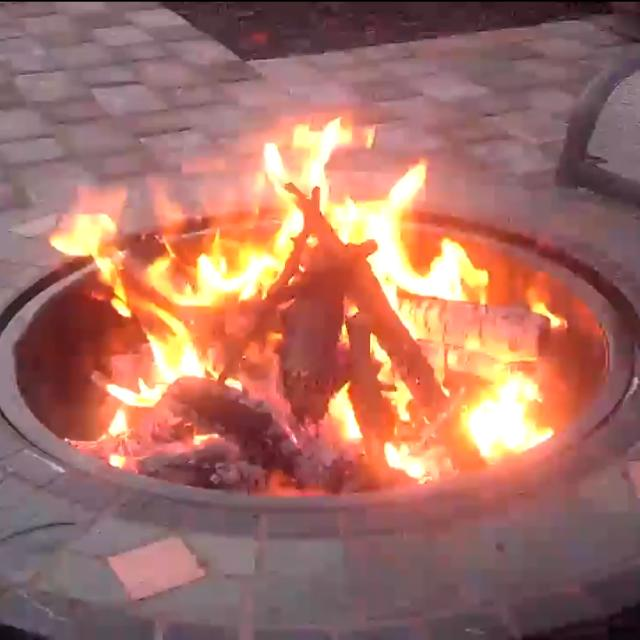Fire: (45, 115, 557, 462)
